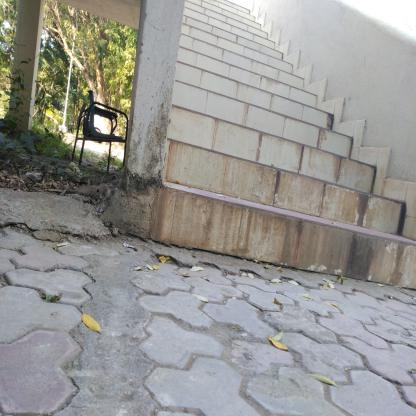stairs: (186, 8, 253, 283)
